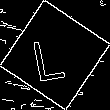L_N: (35, 27, 75, 83)
